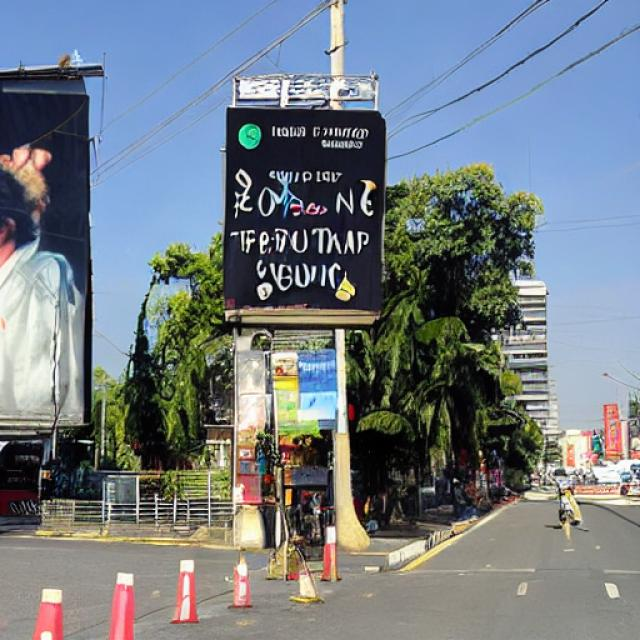Billboard: (224, 104, 386, 328), (0, 66, 94, 442)
